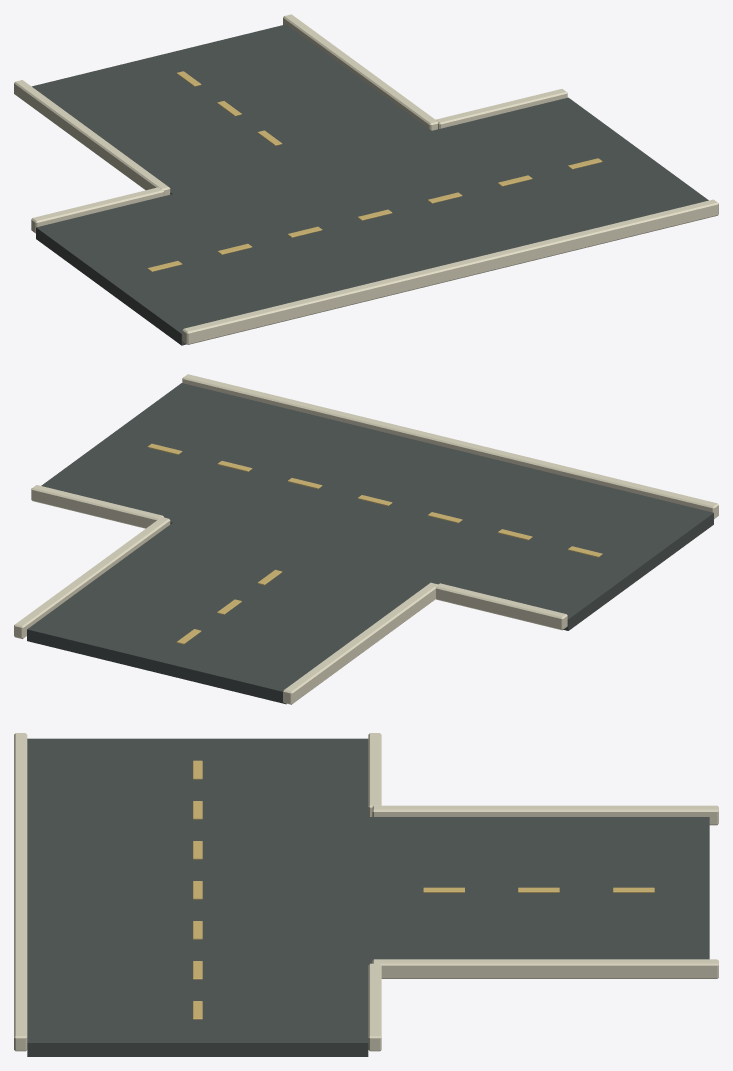
Rendered from road_t_junction.glb.
The picture shows the model from 3 angles, top to bottom: view 1: azimuth 30°, elevation 25°; view 2: azimuth 150°, elevation 25°; view 3: azimuth 270°, elevation 25°; orthographic projection. The views are drawn at different scales.
Visible parts, largest first — view 1: road_t_junction; view 2: road_t_junction; view 3: road_t_junction.
Part boxes in pixels (x1,y1,x2,y2): road_t_junction: (14,14,718,345); road_t_junction: (14,374,718,704); road_t_junction: (14,733,718,1056).
Size of the model in its own units: 7.6 by 0.235 by 7.44.
